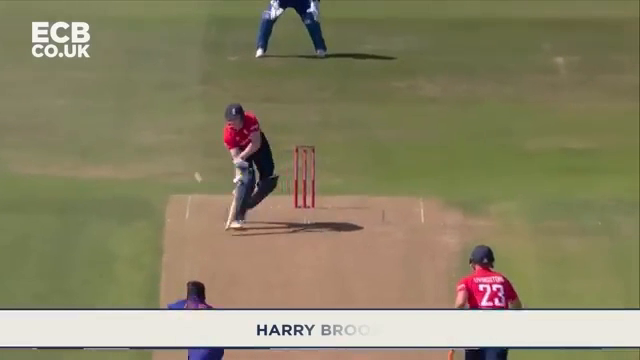batsman: (221, 100, 280, 235)
